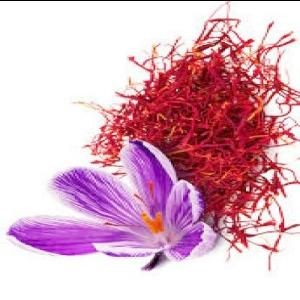Saffron: (6, 140, 212, 265)
